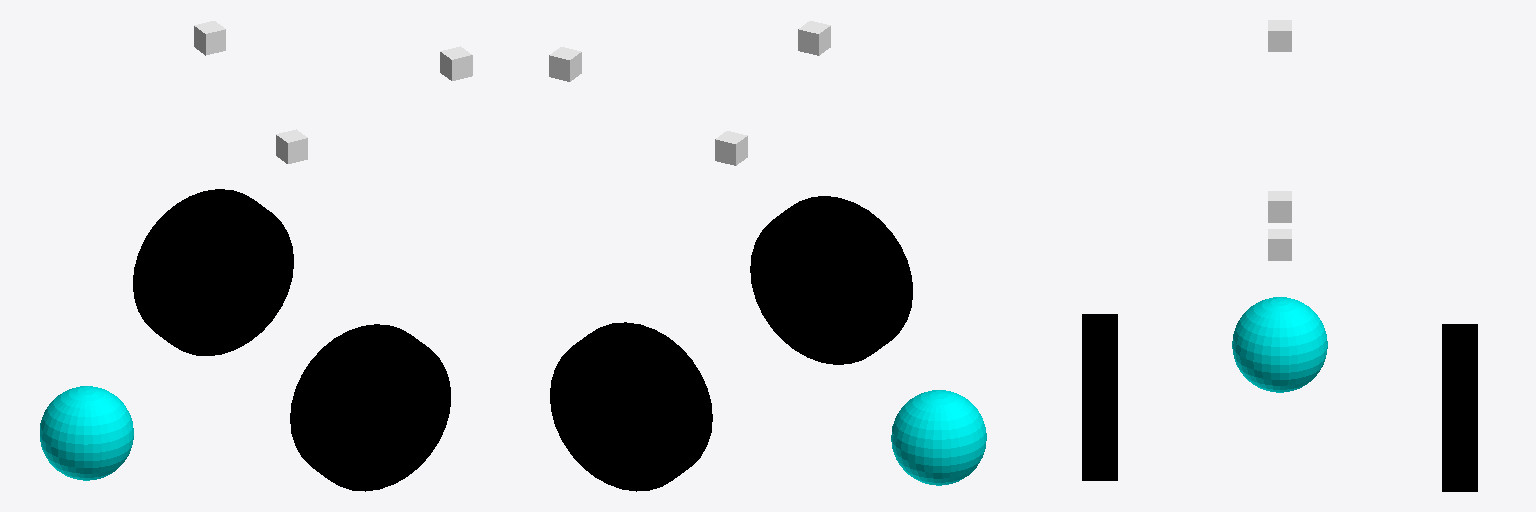
URDF robot description (robot_description):
<?xml version="1.0" encoding="utf-8"?>
<robot
  name="robot_description">

  <link
    name="base_link">
    <inertial>
      <origin
        xyz="-0.033659 0.024669 0.55033"
        rpy="0 0 0" />
      <mass
        value="0.82355" />
      <inertia
        ixx="0.00056474"
        ixy="2.1447E-06"
        ixz="7.5818E-07"
        iyy="0.0007493"
        iyz="3.225E-07"
        izz="0.0002766" />
    </inertial>
    <visual>
      <origin
        xyz="0 0.129 0.049"
        rpy="0 0 0.002" />
      <geometry>
        <mesh
          filename="package://robot_description/meshes/base_link.STL" />
      </geometry>
      <material
        name="">
        <color
          rgba="0 0.4 0.4 1" />
      </material>
    </visual>
    <collision>
      <origin
        xyz="0 0.129 0.049"
        rpy="0 0 0.002" />
      <geometry>
        <mesh
          filename="package://robot_description/meshes/base_link.STL" />
      </geometry>
    </collision>
  </link>

  <link
    name="left_wheel">
    <visual>
      <geometry>
        <cylinder length="0.015" radius="0.035" />
      </geometry>
      <origin rpy="1.57075 0 1.57075" xyz="0 0 0" />
      <material
        name="">
        <color rgba="0 0 0 1" />
      </material>
    </visual>
    <collision>
      <geometry>
        <cylinder length="0.015" radius="0.035" />
      </geometry>
      <origin rpy="1.57075 0 1.57075" xyz="0 0 0" />
    </collision>
    <inertial>
      <origin xyz="0 0 0" rpy="1.57075 0 0" />
      <mass value="0.5" />
      <inertia ixx="0.000226531" ixy="0" ixz="0" iyy="0.000226531" iyz="0" izz="0.000226531" />
    </inertial>
  </link>

  <joint name="left_joint" type="continuous">
    <parent link="base_link" />
    <child link="left_wheel" />
    <origin rpy="0 0 1.57075" xyz="0.005 0.075 0.03" />
    <axis xyz="0 1 0" />
  </joint>

  <link
    name="right_wheel">
    <visual>
      <geometry>
        <cylinder length="0.015" radius="0.035" />
      </geometry>
      <origin rpy="-1.57075 0 -1.57075" xyz="0 0 0" />
      <material
        name="">
        <color rgba="0 0 0 1" />
      </material>
    </visual>
    <collision>
      <geometry>
        <cylinder length="0.015" radius="0.035" />
      </geometry>
      <origin rpy="-1.57075 0 -1.57075" xyz="0 0 0" />
    </collision>
    <inertial>
      <origin xyz="0 0 0" rpy="1.57075 0 0" />
      <mass value="0.5" />
      <inertia ixx="0.000226531" ixy="0" ixz="0" iyy="0.000226531" iyz="0" izz="0.000226531" />
    </inertial>
  </link>

  <joint name="right_joint" type="continuous">
    <parent link="base_link" />
    <child link="right_wheel" />
    <origin rpy="0 0 -1.57075" xyz="-0.005 -0.075 0.03" />
    <axis xyz="0 1 0" />
  </joint>

  <link
    name="back_caster">
    
    <visual>
      <geometry>
        <sphere radius="0.02"/>
      </geometry>
      <material name="Cyan">
        <color rgba="0 1.0 1.0 1.0"/>
      </material>
    </visual>

    <collision>
      <origin xyz="0 0 0" rpy="0 0 0"/>
      <geometry>
        <sphere radius="0.02"/>
      </geometry>
    </collision>

    <inertial>
      <mass value="0.5"/>
      <inertia ixx="0.000226531" ixy="0" ixz="0" iyy="0.000226531" iyz="0" izz="0.000226531"/>
    </inertial>

  </link>

  <joint
    name="back_caster_joint" type="fixed">
    <parent link="base_link"/>
    <child link="back_caster"/>
    <origin xyz="-0.1 0 0.01" rpy="0 0 0"/>
  </joint>

  <link
    name="rplidar">

    <visual>
      <geometry>
        <box size=" 0.01 0.01 0.01"></box>
      </geometry>
      <origin rpy="0 0 0" xyz="0 0 0" />
      <material
        name="">
        <color rgba="1 1 1 1" />
      </material>
    </visual>
  </link>
  <joint
    name="rplidar_joint" type="fixed">
    <parent link="base_link" />
    <child link="rplidar" />
    <origin xyz="-0.04 0 0.18" rpy="0 0 0" />
  </joint>

  <gazebo reference="rplidar">
    <sensor name="lidar" type="ray">
      <always_on>true</always_on>
      <visualize>true</visualize>
      <update_rate>5</update_rate>
      <ray>
        <scan>
          <horizontal>
            <samples>360</samples>
            <resolution>1.000000</resolution>
            <min_angle>0.000000</min_angle>
            <max_angle>6.280000</max_angle>
          </horizontal>
        </scan>
        <range>
          <min>0.120000</min>
          <max>3.5</max>
          <resolution>0.015000</resolution>
        </range>
        <noise>
          <type>gaussian</type>
          <mean>0.0</mean>
          <stddev>0.01</stddev>
        </noise>
      </ray>
      <plugin name="scan" filename="libgazebo_ros_ray_sensor.so">
        <ros>
          <remapping>~/out:=scan</remapping>
        </ros>
        <output_type>sensor_msgs/LaserScan</output_type>
        <frame_name>rplidar</frame_name>
      </plugin>
    </sensor>
  </gazebo>

  <link
    name="camera_link">
    <visual>
      <geometry>
        <box size=" 0.01 0.01 0.01"></box>
      </geometry>
      <origin rpy="0 0 0" xyz="0 0 0" />
      <material
        name="">
        <color rgba="1 1 1 1" />
      </material>
    </visual>
  </link>

  <joint
    name="camera_joint" type="fixed">
    <parent link="base_link" />
    <child link="camera_link" />
    <origin xyz="0.08 0 0.14" rpy="0 0 0" />
  </joint>

  <gazebo reference="camera_link">
    <sensor name="depth_camera" type="depth">
      <visualize>true</visualize>
      <update_rate>30.0</update_rate>
      <camera name="camera">
        <horizontal_fov>1.047198</horizontal_fov>
        <image>
          <width>640</width>
          <height>480</height>
          <format>R8G8B8</format>
        </image>
        <clip>
          <near>0.05</near>
          <far>3</far>
        </clip>
      </camera>
      <plugin name="depth_camera_controller" filename="libgazebo_ros_camera.so">
        <baseline>0.2</baseline>
        <alwaysOn>true</alwaysOn>
        <updateRate>0.0</updateRate>
        <frame_name>camera_link</frame_name>
        <pointCloudCutoff>0.5</pointCloudCutoff>
        <pointCloudCutoffMax>3.0</pointCloudCutoffMax>
        <distortionK1>0</distortionK1>
        <distortionK2>0</distortionK2>
        <distortionK3>0</distortionK3>
        <distortionT1>0</distortionT1>
        <distortionT2>0</distortionT2>
        <CxPrime>0</CxPrime>
        <Cx>0</Cx>
        <Cy>0</Cy>
        <focalLength>0</focalLength>
        <hackBaseline>0</hackBaseline>
      </plugin>
    </sensor>
  </gazebo>


  <gazebo>
    <plugin name='diff_drive' filename='libgazebo_ros_diff_drive.so'>
      <ros>
        <namespace>/demo</namespace>
      </ros>

      <!-- wheels -->
      <left_joint>left_joint</left_joint>
      <right_joint>right_joint</right_joint>

      <!-- kinematics -->
      <wheel_separation>0.4</wheel_separation>
      <wheel_diameter>0.2</wheel_diameter>

      <!-- limits -->
      <max_wheel_torque>20</max_wheel_torque>
      <max_wheel_acceleration>1.0</max_wheel_acceleration>

      <!-- output -->
      <publish_odom>true</publish_odom>
      <publish_odom_tf>false</publish_odom_tf>
      <publish_wheel_tf>true</publish_wheel_tf>

      <odometry_frame>odom</odometry_frame>
      <robot_base_frame>base_link</robot_base_frame>
    </plugin>
  </gazebo>

  <link
    name="imu_link">
    <visual>
      <geometry>
        <box size=" 0.01 0.01 0.01"></box>
      </geometry>
      <origin rpy="0 0 0" xyz="0 0 0" />
      <material
        name="">
        <color rgba="1 1 1 1" />
      </material>
    </visual>
  </link>

  <joint
    name="imu_joint" type="fixed">
    <parent link="base_link" />
    <child link="imu_link" />
    <origin xyz="0 0 0.12" />
  </joint>

  <gazebo reference="imu_link">
    <sensor name="imu_sensor" type="imu">
      <plugin filename="libgazebo_ros_imu_sensor.so" name="imu_plugin">
        <ros>
          <namespace>/demo</namespace>
          <remapping>~/out:=imu</remapping>
        </ros>
        <initial_orientation_as_reference>false</initial_orientation_as_reference>
      </plugin>
      <always_on>true</always_on>
      <update_rate>100</update_rate>
      <visualize>true</visualize>
      <imu>
        <angular_velocity>
          <x>
            <noise type="gaussian">
              <mean>0.0</mean>
              <stddev>2e-4</stddev>
              <bias_mean>0.0000075</bias_mean>
              <bias_stddev>0.0000008</bias_stddev>
            </noise>
          </x>
          <y>
            <noise type="gaussian">
              <mean>0.0</mean>
              <stddev>2e-4</stddev>
              <bias_mean>0.0000075</bias_mean>
              <bias_stddev>0.0000008</bias_stddev>
            </noise>
          </y>
          <z>
            <noise type="gaussian">
              <mean>0.0</mean>
              <stddev>2e-4</stddev>
              <bias_mean>0.0000075</bias_mean>
              <bias_stddev>0.0000008</bias_stddev>
            </noise>
          </z>
        </angular_velocity>
        <linear_acceleration>
          <x>
            <noise type="gaussian">
              <mean>0.0</mean>
              <stddev>1.7e-2</stddev>
              <bias_mean>0.1</bias_mean>
              <bias_stddev>0.001</bias_stddev>
            </noise>
          </x>
          <y>
            <noise type="gaussian">
              <mean>0.0</mean>
              <stddev>1.7e-2</stddev>
              <bias_mean>0.1</bias_mean>
              <bias_stddev>0.001</bias_stddev>
            </noise>
          </y>
          <z>
            <noise type="gaussian">
              <mean>0.0</mean>
              <stddev>1.7e-2</stddev>
              <bias_mean>0.1</bias_mean>
              <bias_stddev>0.001</bias_stddev>
            </noise>
          </z>
        </linear_acceleration>
      </imu>
    </sensor>
  </gazebo>

</robot>

--- Render facts (derived) ---
Views: 3 orthographic renders of the robot side by side, from view 1: azimuth 30°, elevation 25°; view 2: azimuth 150°, elevation 25°; view 3: azimuth 270°, elevation 25°.
Robot: robot_description — 7 links, 6 joints (2 continuous, 4 fixed); root link base_link; default pose: every joint at zero.
Visible links, largest first — view 1: right_wheel, left_wheel, back_caster, camera_link, rplidar, imu_link; view 2: right_wheel, left_wheel, back_caster, camera_link, rplidar, imu_link; view 3: back_caster, left_wheel, right_wheel, rplidar, camera_link, imu_link.
Boxes of the visible links, box(x1,y1,x2,y2) form: right_wheel: box(290, 324, 450, 491); left_wheel: box(133, 189, 293, 355); back_caster: box(40, 386, 133, 480); camera_link: box(440, 46, 472, 80); rplidar: box(194, 21, 225, 55); imu_link: box(276, 129, 307, 163); right_wheel: box(750, 196, 912, 364); left_wheel: box(550, 322, 712, 491); back_caster: box(891, 390, 986, 485); camera_link: box(549, 47, 581, 81); rplidar: box(798, 21, 830, 55); imu_link: box(715, 131, 747, 165); back_caster: box(1232, 297, 1327, 392); left_wheel: box(1442, 324, 1477, 491); right_wheel: box(1082, 314, 1117, 480); rplidar: box(1268, 20, 1291, 51); camera_link: box(1268, 229, 1291, 260); imu_link: box(1268, 191, 1291, 222).
Size in the robot's own frame: 0.205 by 0.165 by 0.195 metres.
0 mesh visuals loaded from 1 distinct referenced files (none loaded); not drawn: 1 (reference not matched to a file when rendering).